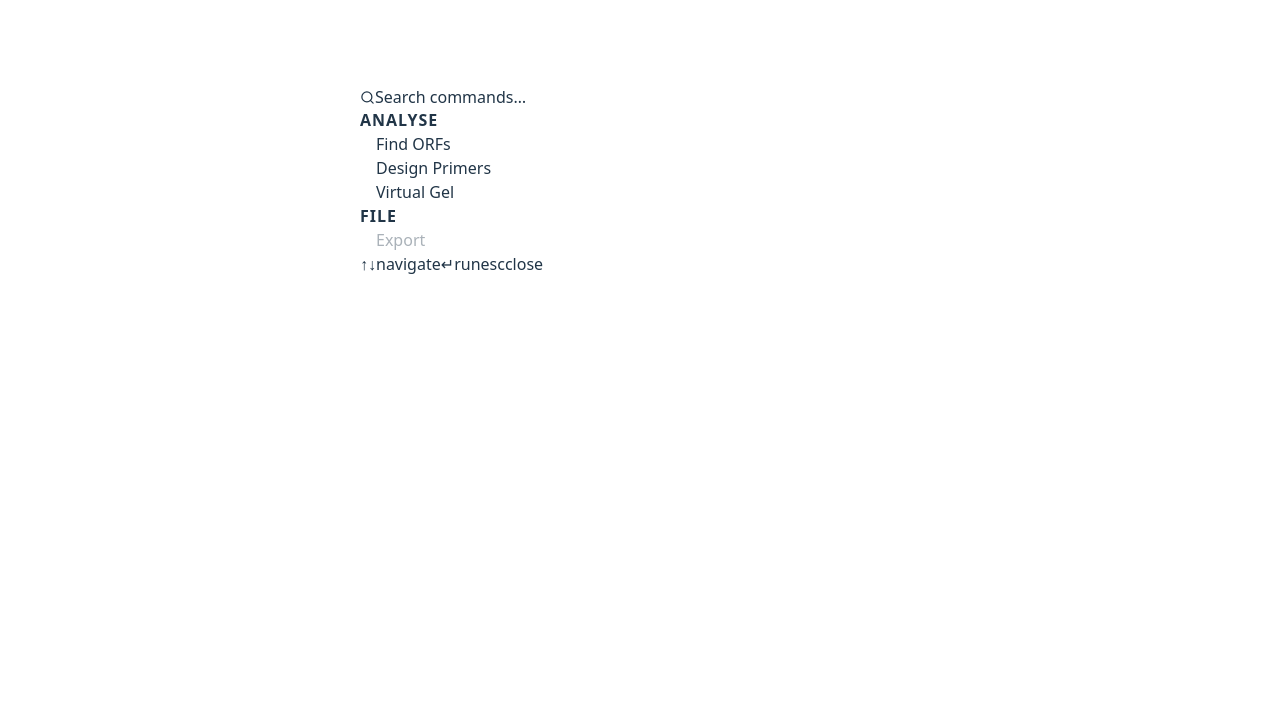
Test case: CommandPalette › filters as the user types
Type "gel" into the dropdown at (648, 97), box top-left (375, 86), bottom-right (920, 108)
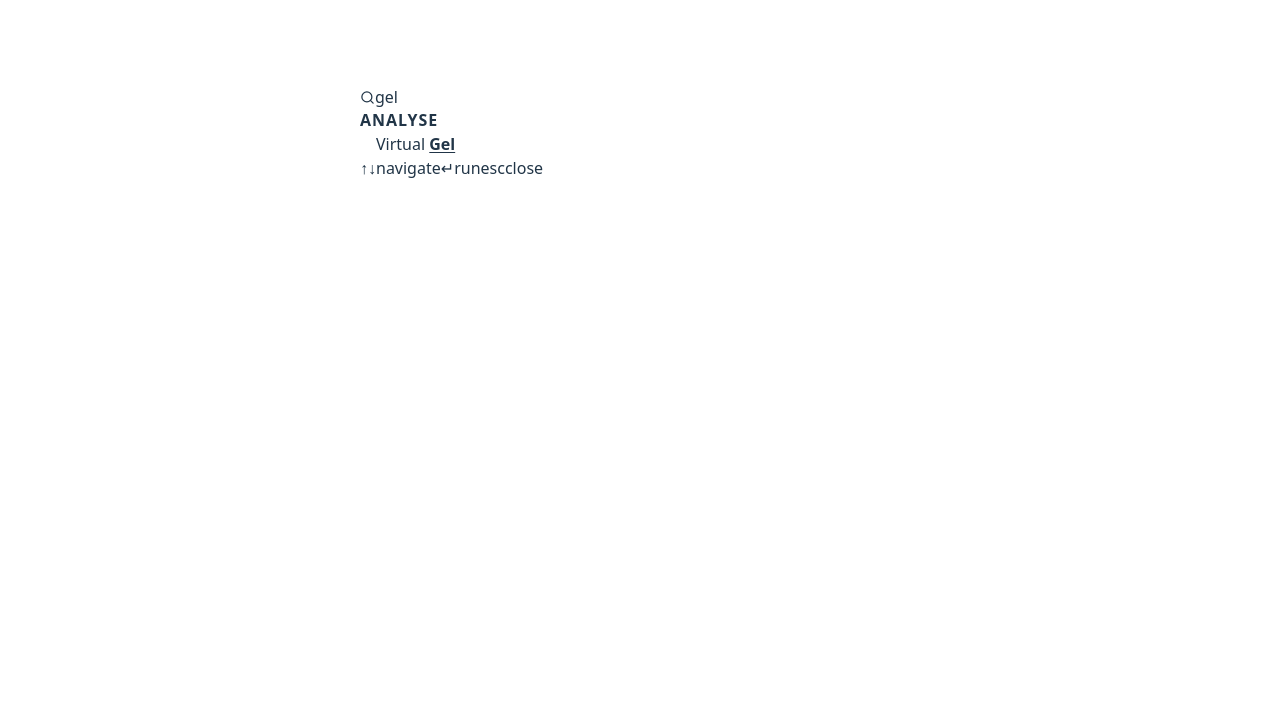
Expected: the text "Virtual Gel" is shown, top-left (376, 133), bottom-right (455, 155)
Expected: the option "Design Primers" is gone
